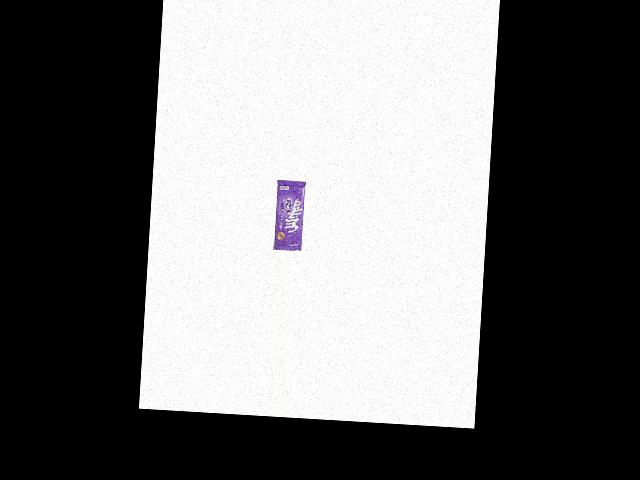chocolate: (269, 175, 307, 251)
